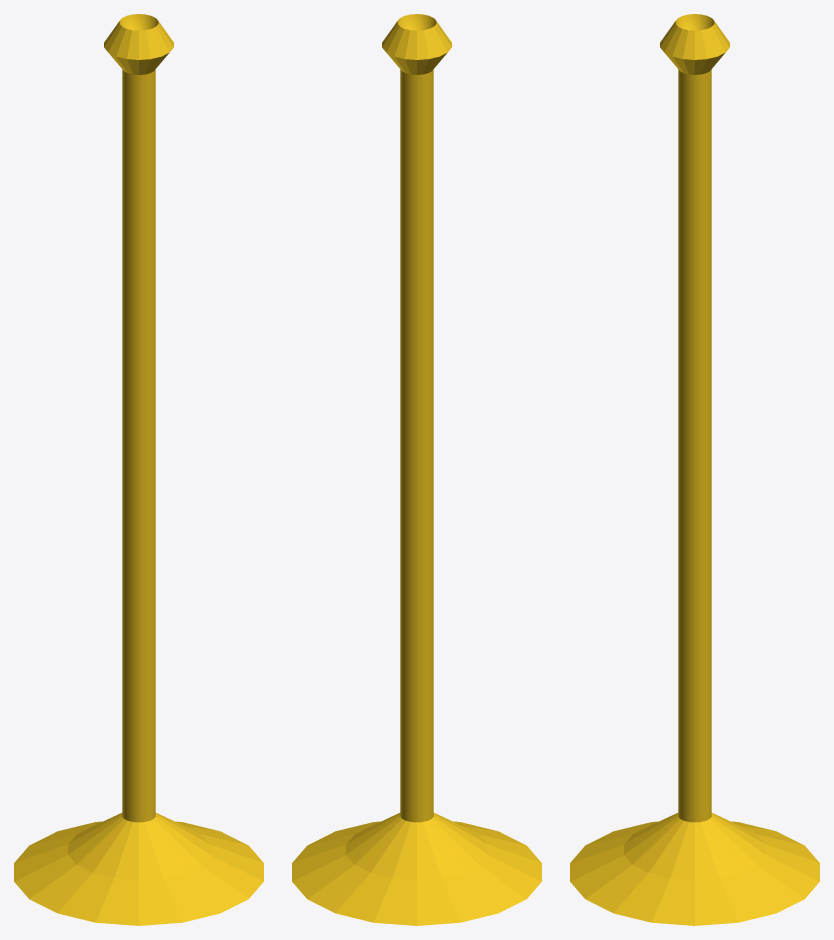
Rendered from Candle Holder.fbx.
3 renders of one model, left to right at view 1: azimuth 30°, elevation 25°; view 2: azimuth 150°, elevation 25°; view 3: azimuth 270°, elevation 25°, orthographic.
Parts seen in each view (by area): view 1: Cylinder001; view 2: Cylinder001; view 3: Cylinder001.
Boxes of the visible parts, x1,y1,x2,y2 form: Cylinder001: (14,14,263,925); Cylinder001: (292,14,541,925); Cylinder001: (570,14,819,925).
Size of the model in its own units: 1.6 by 5.93 by 1.58.
